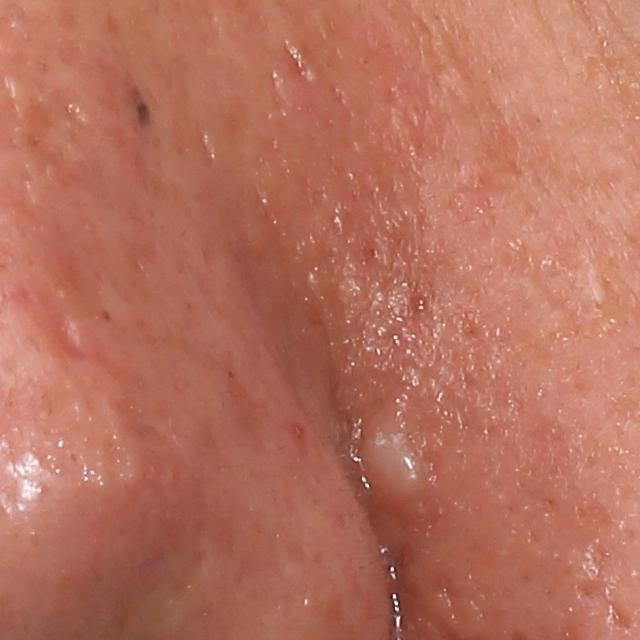atrophic_scar: (24, 96, 81, 179), (116, 393, 175, 453), (278, 34, 314, 90), (48, 309, 81, 360), (575, 578, 609, 605), (606, 600, 630, 633)
nevus: (129, 83, 153, 124)
pustule: (356, 411, 441, 516)
